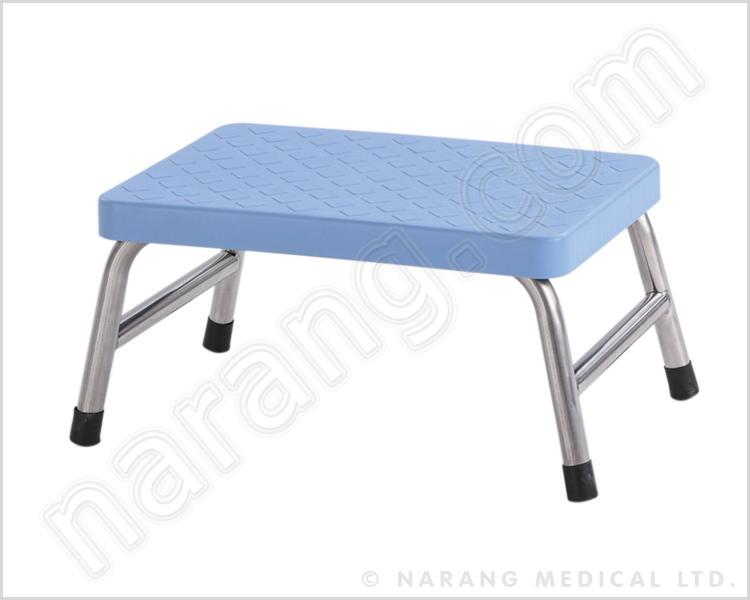stool: (72, 116, 705, 506)
